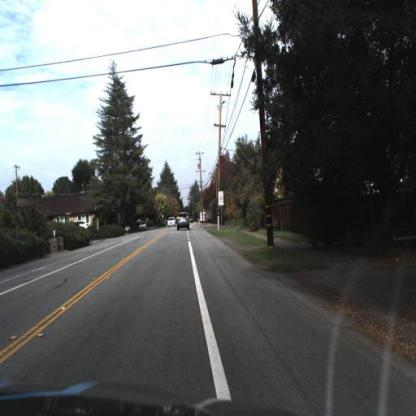car: (176, 209, 193, 237), (136, 216, 150, 237), (169, 215, 178, 231), (200, 211, 207, 227)
